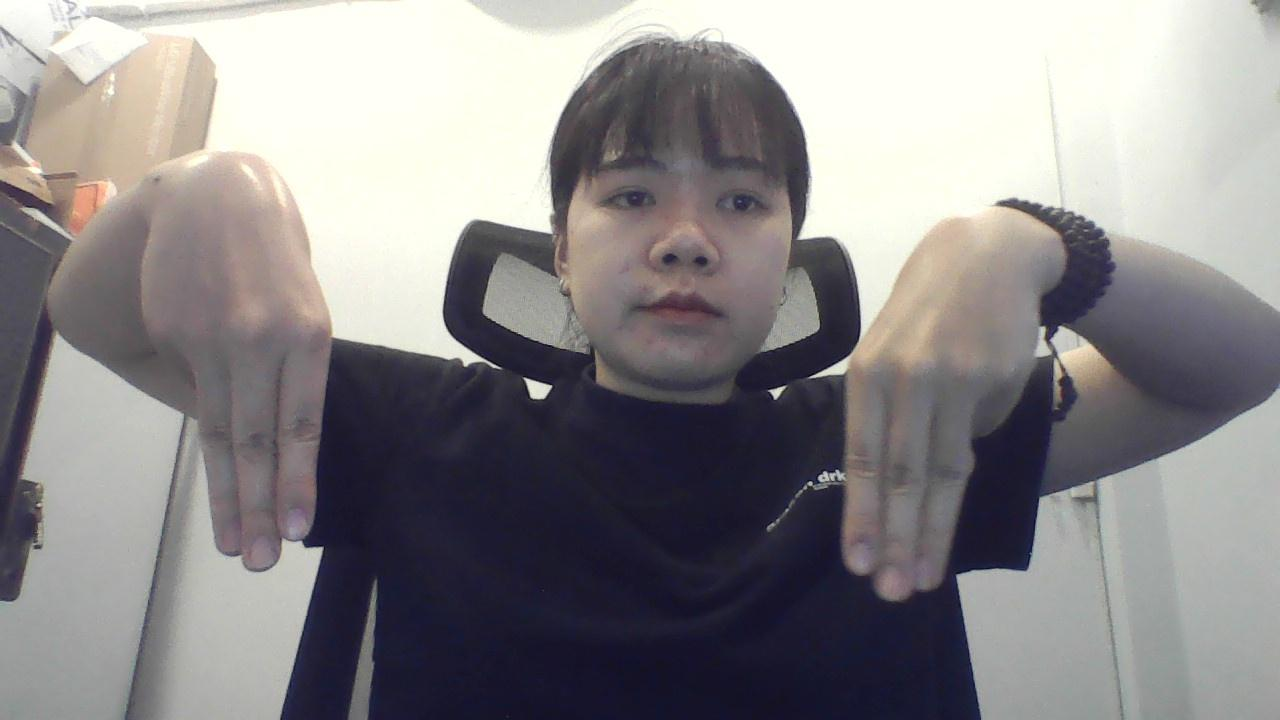M: (139, 142, 342, 581), (832, 202, 1043, 621)
